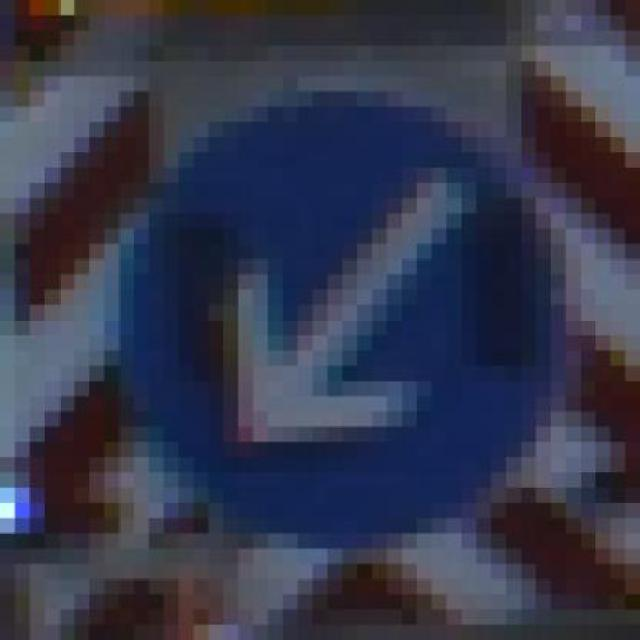Keep-Left: (104, 76, 565, 564)
